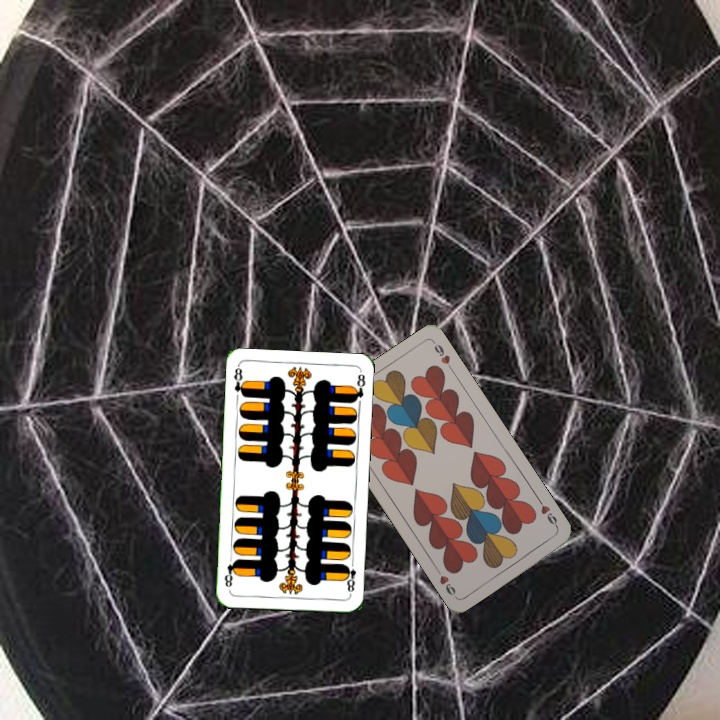E8: (340, 557, 358, 594), (230, 363, 248, 400)
H9: (534, 495, 561, 531)
